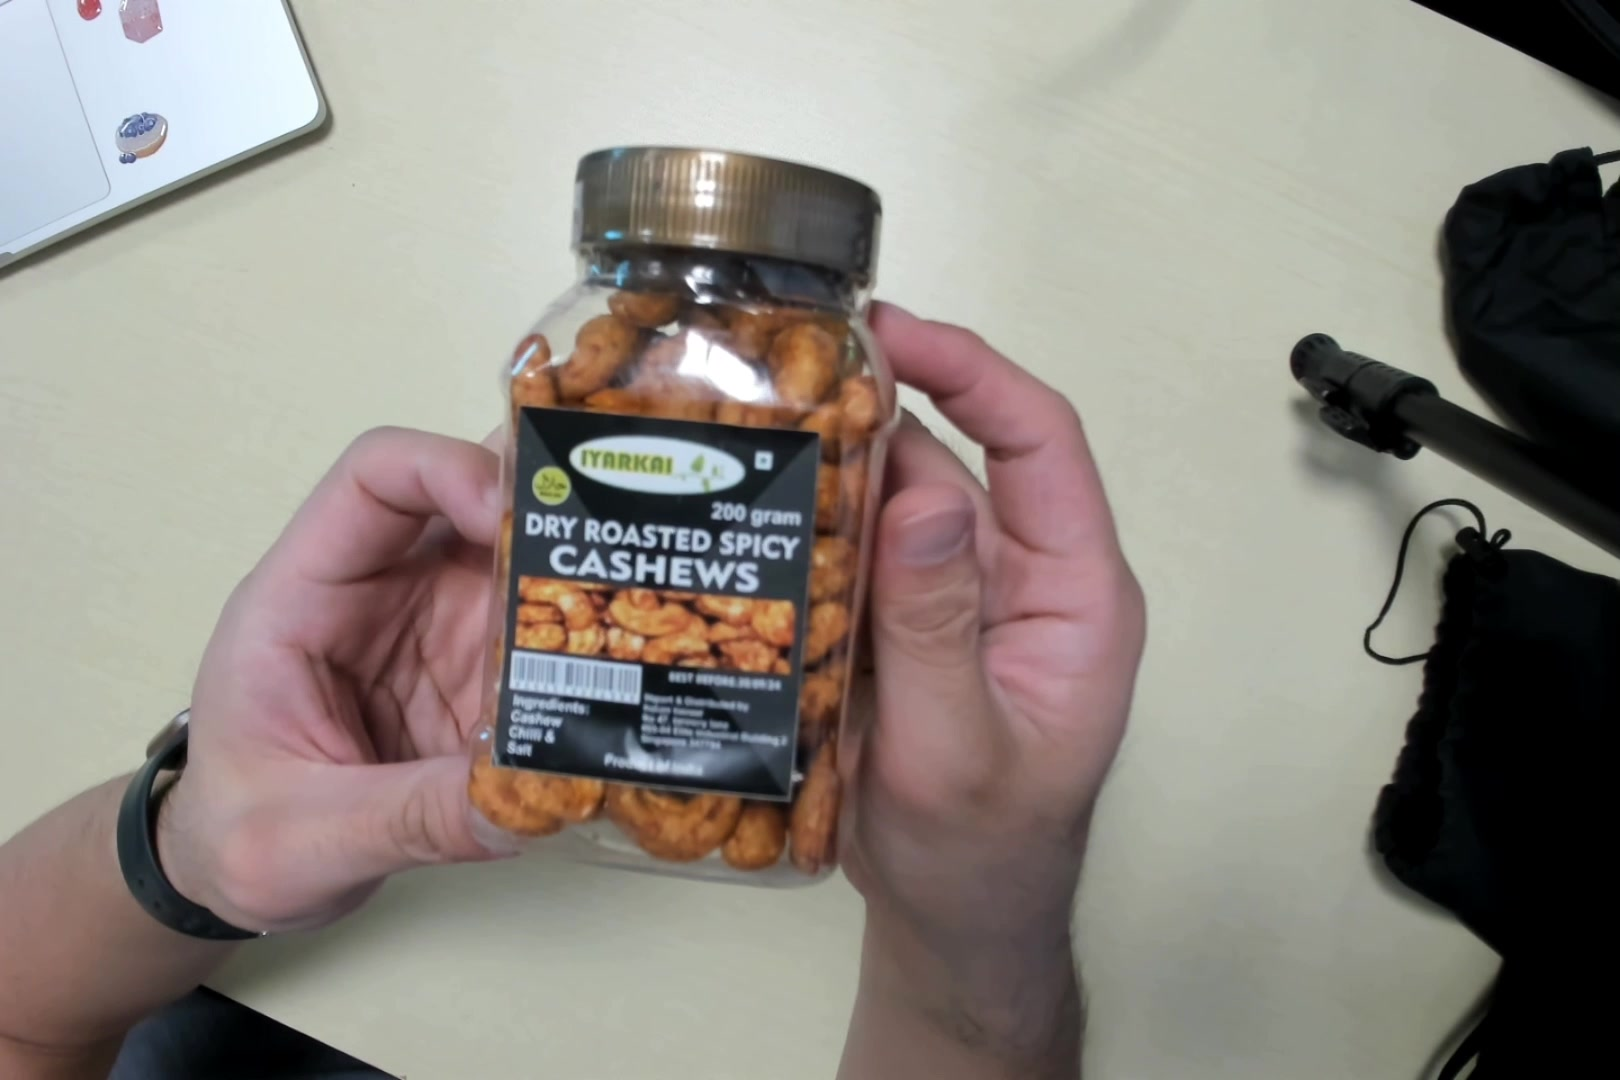Nuts_200-299g_NonHalal_NonHealthy: (486, 133, 888, 894)
